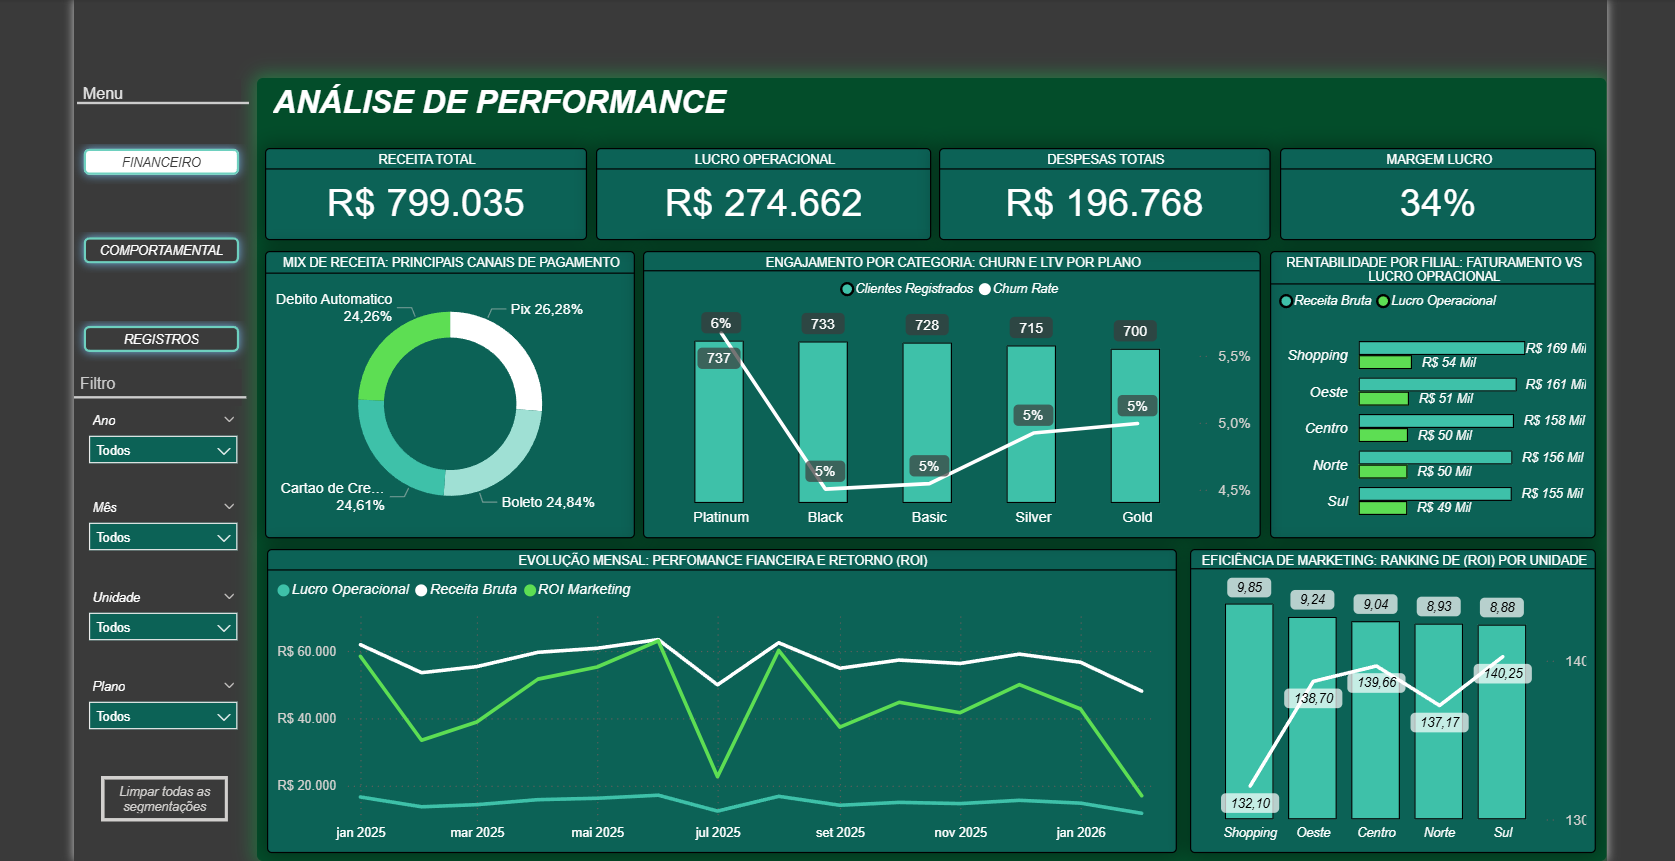

What the dashboard file says about the page in this screenshot:
{"tool":"powerbi","page":{"name":"FINANCEIRO","canvas":[1280,720],"ordinal":0},"visuals":[{"type":"shape","box":[152.7,66.1,1127.3,653.6],"z":0},{"type":"slicer","fields":{"Values":["Base_Academia.Data.Variation.Hierarquia de datas.Ano"]},"box":[2.9,340.4,144,60.3],"z":1000},{"type":"card","title":"RECEITA TOTAL","fields":{"Values":["Medidas.Receita_Bruta"]},"box":[159.6,124.1,268.7,77.1],"z":2000},{"type":"donutChart","title":"MIX DE RECEITA: PRINCIPAIS CANAIS DE PAGAMENTO","fields":{"Category":["Base_Academia.Metodo_Pagamento"],"Y":["Medidas.Receita_Bruta"]},"box":[159.5,210.1,309.3,240.2],"z":3000},{"type":"card","title":"LUCRO OPERACIONAL","fields":{"Values":["Medidas.Lucro Operacional"]},"box":[436.3,124.1,280.2,77.1],"z":4000},{"type":"clusteredBarChart","title":"RENTABILIDADE POR FILIAL: FATURAMENTO VS LUCRO OPRACIONAL","fields":{"Category":["Base_Academia.Unidade"],"Y":["Medidas.Receita_Bruta","Medidas.Lucro Operacional"]},"box":[998.9,210.1,272.3,240.2],"z":5000},{"type":"lineChart","title":"EVOLUÇÃO MENSAL: PERFOMANCE FIANCEIRA E RETORNO (ROI)","fields":{"Y2":["Medidas.ROI Marketing"],"Y":["Medidas.Lucro Operacional","Medidas.Receita Bruta"],"Category":["Base_Academia.Data.Variation.Hierarquia de datas.Ano","Base_Academia.Data.Variation.Hierarquia de datas.Mês"]},"box":[161.5,459.1,759.6,253.9],"z":8000},{"type":"lineClusteredColumnComboChart","title":"EFICIÊNCIA DE MARKETING: RANKING DE (ROI) POR UNIDADE","fields":{"Category":["Base_Academia.Unidade"],"Y":["Medidas.ROI Marketing"],"Y2":["Medidas.CAC"]},"box":[931.8,459.1,339.5,253.9],"z":9000},{"type":"lineClusteredColumnComboChart","title":"ENGAJAMENTO POR CATEGORIA: CHURN E LTV POR PLANO","fields":{"Category":["Base_Academia.Plano"],"Y":["Medidas.Clientes Registrados"],"Y2":["Medidas.Churn Rate"]},"box":[475.6,210.1,516.5,240.2],"z":10000},{"type":"slicer","fields":{"Values":["Base_Academia.Data.Variation.Hierarquia de datas.Mês"]},"box":[2.9,413.4,144,55.4],"z":11000},{"type":"slicer","fields":{"Values":["Base_Academia.Plano"]},"box":[2.9,563.2,144,69.1],"z":12000},{"type":"slicer","fields":{"Values":["Base_Academia.Unidade"]},"box":[2.9,488.3,144,61.3],"z":13000},{"type":"actionButton","box":[22.2,649.1,106.4,38.1],"z":14000},{"type":"textbox","box":[0,309.3,140.1,31.1],"z":15000},{"type":"shape","box":[0,324.9,144,15.6],"z":16000},{"type":"textbox","box":[161.5,66.1,448.4,50.6],"z":17000},{"type":"pageNavigator","box":[0,117,146.3,186.2],"z":18000},{"type":"textbox","box":[2.7,66.5,137.4,24.8],"z":19000},{"type":"shape","box":[2.7,72.7,143.6,28.4],"z":20000},{"type":"card","title":"DESPESAS TOTAIS","fields":{"Values":["Medidas.Total Despesas"]},"box":[722.7,124.1,276.7,77.1],"z":20001},{"type":"card","title":"MARGEM LUCRO","fields":{"Values":["Medidas.Margem de Lucro %"]},"box":[1007.3,124.1,264.2,77.1],"z":20002}]}

Visuals, with their boxes on the page's 1280x720 design canvas (x1, y1, x2, y2). These are canvas units, not pixel positions in the 1675x861 screenshot, which may show the page scaled, cropped or inside an application window:
shape: bbox=[153, 66, 1280, 720]
slicer - Base_Academia.Data.Variation.Hierarquia de datas.Ano: bbox=[3, 340, 147, 401]
"RECEITA TOTAL" card: bbox=[160, 124, 428, 201]
"MIX DE RECEITA: PRINCIPAIS CANAIS DE PAGAMENTO" donutChart: bbox=[160, 210, 469, 450]
"LUCRO OPERACIONAL" card: bbox=[436, 124, 716, 201]
"RENTABILIDADE POR FILIAL: FATURAMENTO VS LUCRO OPRACIONAL" clusteredBarChart: bbox=[999, 210, 1271, 450]
"EVOLUÇÃO MENSAL: PERFOMANCE FIANCEIRA E RETORNO (ROI)" lineChart: bbox=[162, 459, 921, 713]
"EFICIÊNCIA DE MARKETING: RANKING DE (ROI) POR UNIDADE" lineClusteredColumnComboChart: bbox=[932, 459, 1271, 713]
"ENGAJAMENTO POR CATEGORIA: CHURN E LTV POR PLANO" lineClusteredColumnComboChart: bbox=[476, 210, 992, 450]
slicer - Base_Academia.Data.Variation.Hierarquia de datas.Mês: bbox=[3, 413, 147, 469]
slicer - Base_Academia.Plano: bbox=[3, 563, 147, 632]
slicer - Base_Academia.Unidade: bbox=[3, 488, 147, 550]
actionButton: bbox=[22, 649, 129, 687]
textbox: bbox=[0, 309, 140, 340]
shape: bbox=[0, 325, 144, 340]
textbox: bbox=[162, 66, 610, 117]
pageNavigator: bbox=[0, 117, 146, 303]
textbox: bbox=[3, 66, 140, 91]
shape: bbox=[3, 73, 146, 101]
"DESPESAS TOTAIS" card: bbox=[723, 124, 999, 201]
"MARGEM LUCRO" card: bbox=[1007, 124, 1272, 201]
